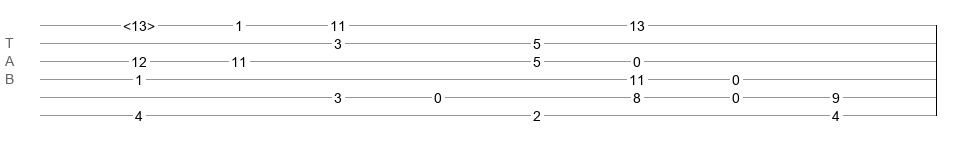0: (434, 90, 442, 100), (633, 54, 641, 64), (732, 90, 740, 100), (732, 72, 740, 82)
1: (135, 72, 143, 82), (235, 18, 243, 28)
11: (231, 54, 247, 64), (330, 18, 346, 28), (629, 72, 645, 82)
12: (131, 54, 147, 64)
13: (629, 18, 645, 28)
2: (533, 108, 541, 118)
3: (334, 90, 342, 100), (334, 36, 342, 46)
4: (135, 108, 143, 118), (832, 108, 840, 118)
5: (533, 36, 541, 46), (533, 54, 541, 64)
8: (633, 90, 641, 100)
9: (832, 90, 840, 100)
harmonic: (123, 18, 155, 28)
